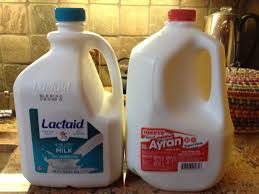milk: (128, 10, 229, 191), (18, 11, 121, 187)
